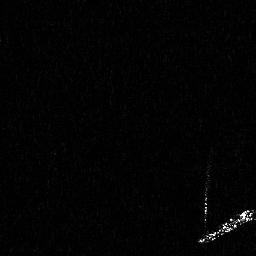ship: (195, 201, 254, 245), (199, 166, 210, 224)
